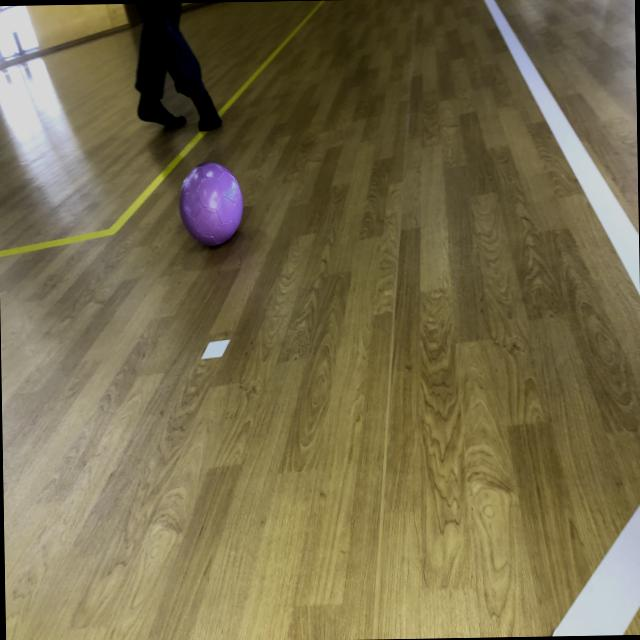purple_ball: (180, 162, 244, 245)
